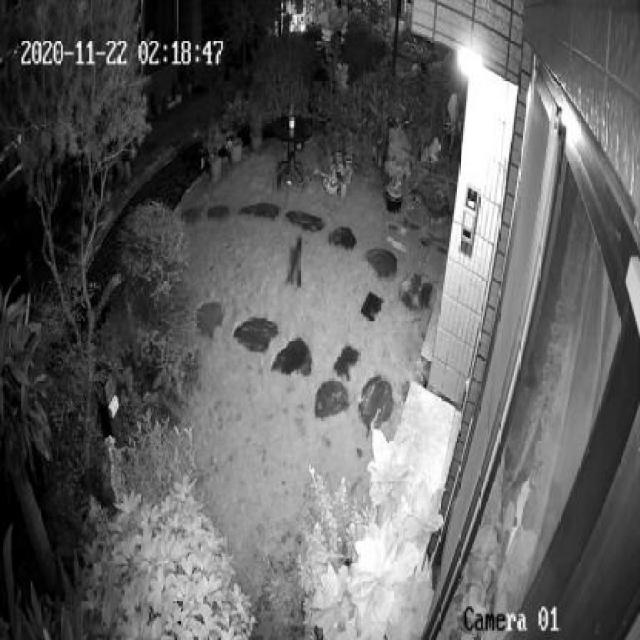animals: (280, 234, 308, 292)
